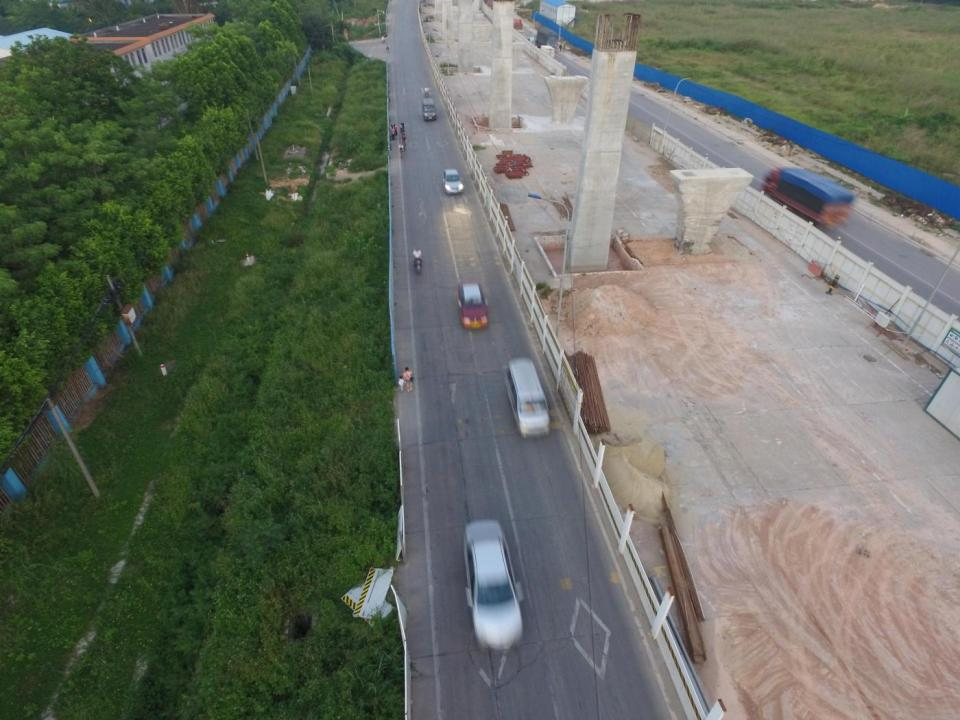car: (466, 522, 522, 650), (458, 282, 490, 330), (444, 168, 464, 194)
truck: (762, 167, 852, 232), (535, 28, 557, 54)
van: (505, 357, 550, 438), (420, 97, 439, 120)
